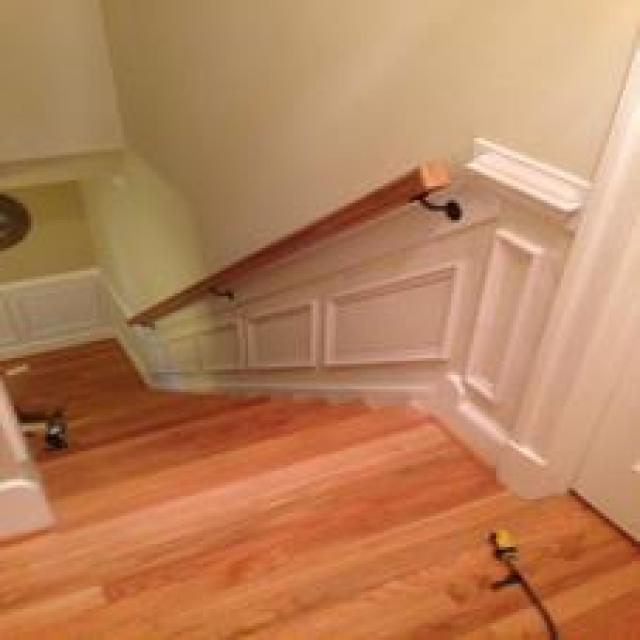downstair: (21, 345, 461, 528)
